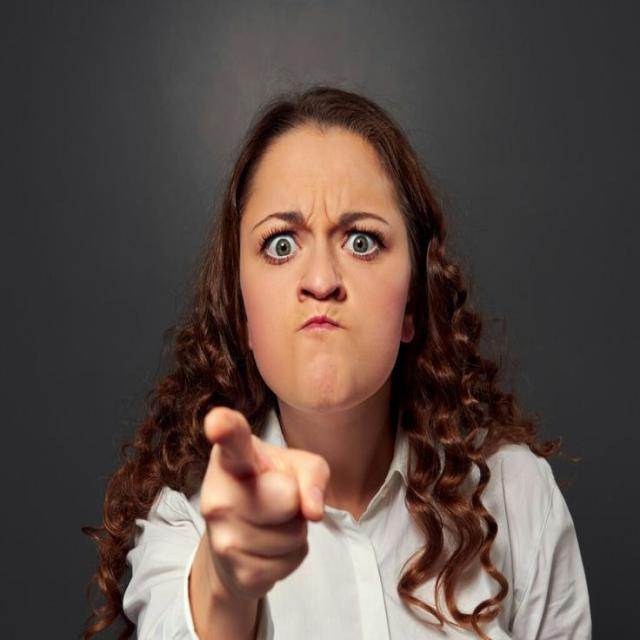sem_oculos: (221, 204, 436, 266)
